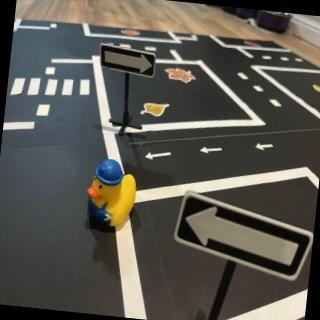duck_specialty: (83, 154, 142, 236)
road_crosswalk: (8, 66, 95, 106)
road_oneway: (145, 150, 175, 164), (256, 139, 278, 157), (199, 144, 226, 158)
sign_oneway_left: (170, 189, 317, 285)
sign_oneway_right: (97, 42, 159, 79)
